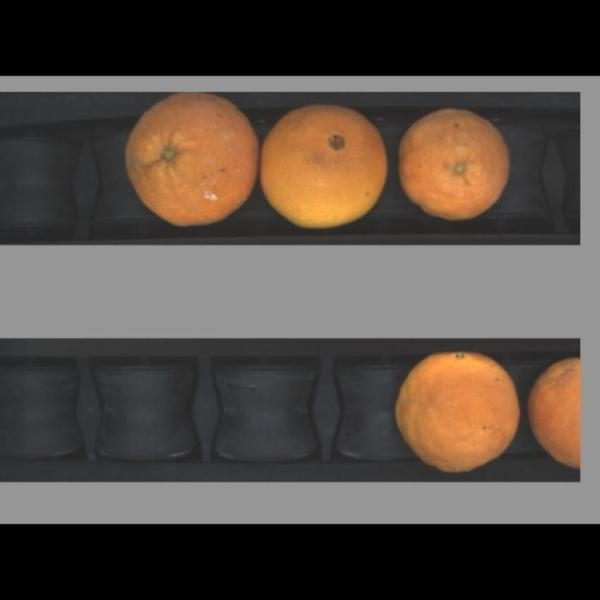Otros defectos: (111, 88, 263, 232), (260, 100, 391, 240), (388, 99, 525, 232)
Sana: (389, 351, 528, 477), (528, 354, 580, 468)
